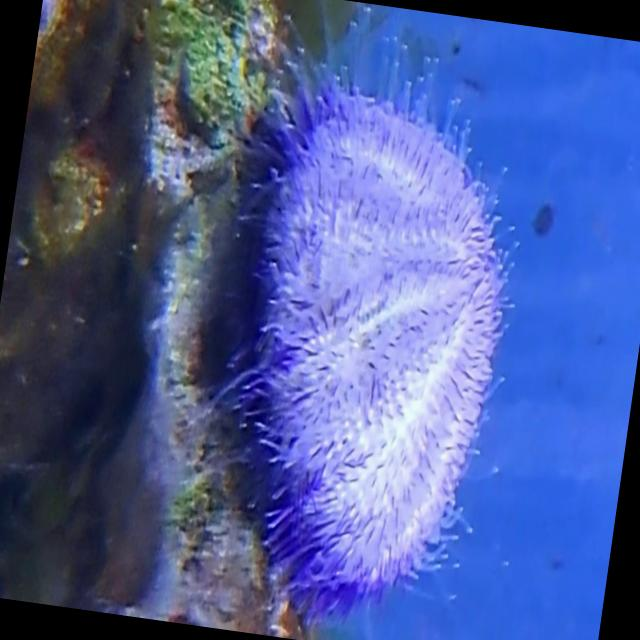Deniz Kestanesi: (200, 36, 546, 635)
